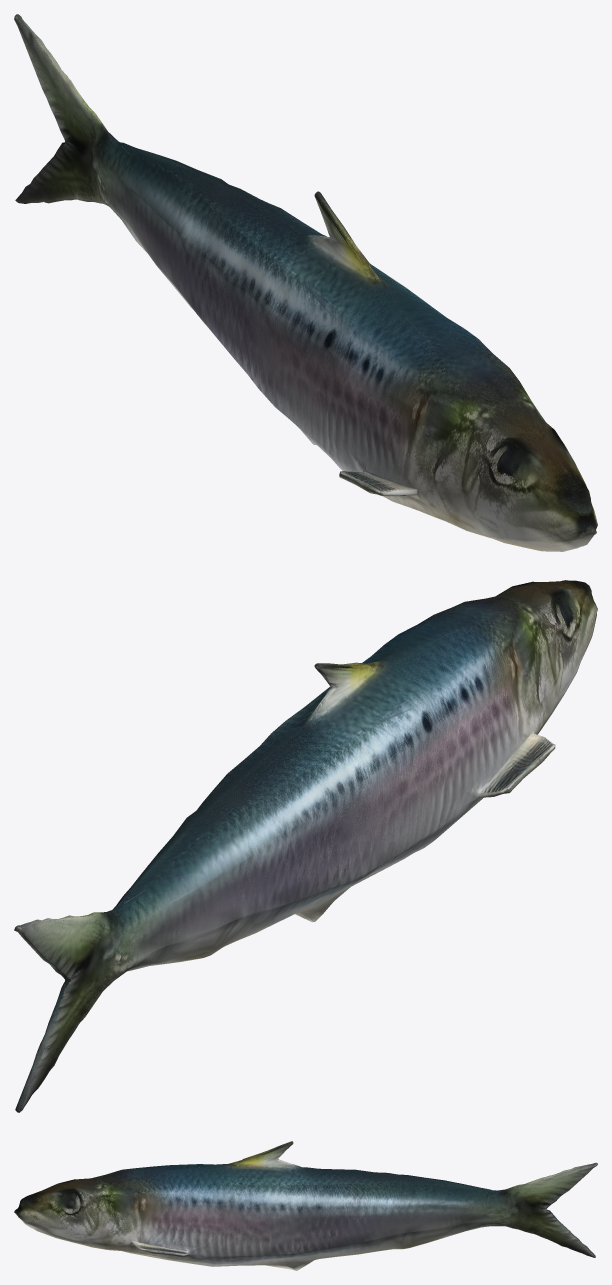
Rendered from Sardine.fbx.
The picture shows the model from 3 angles, top to bottom: view 1: azimuth 30°, elevation 25°; view 2: azimuth 150°, elevation 25°; view 3: azimuth 270°, elevation 25°; orthographic projection. The views are drawn at different scales.
Parts seen in each view (by area): view 1: Mesh_0; view 2: Mesh_0; view 3: Mesh_0.
Boxes of the visible parts, box(x1,y1,x2,y2) form: Mesh_0: box(14, 14, 597, 551); Mesh_0: box(14, 580, 597, 1112); Mesh_0: box(14, 1141, 597, 1270).
Bounding box in the file's own units: 34.05 × 46.58 × 191.
Materials: 1 (1 with a texture image).
